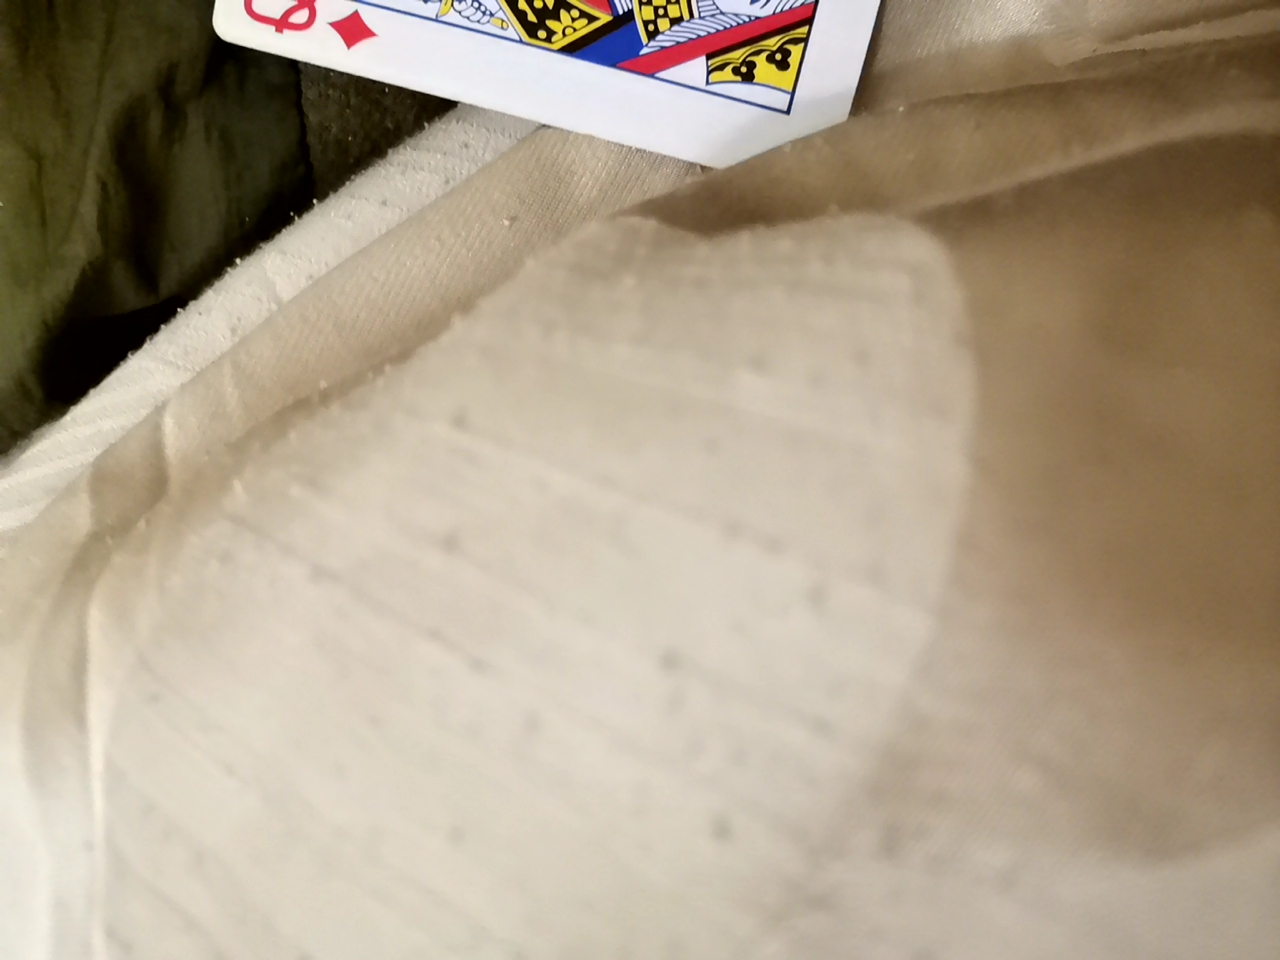fk q: (191, 2, 918, 178)
